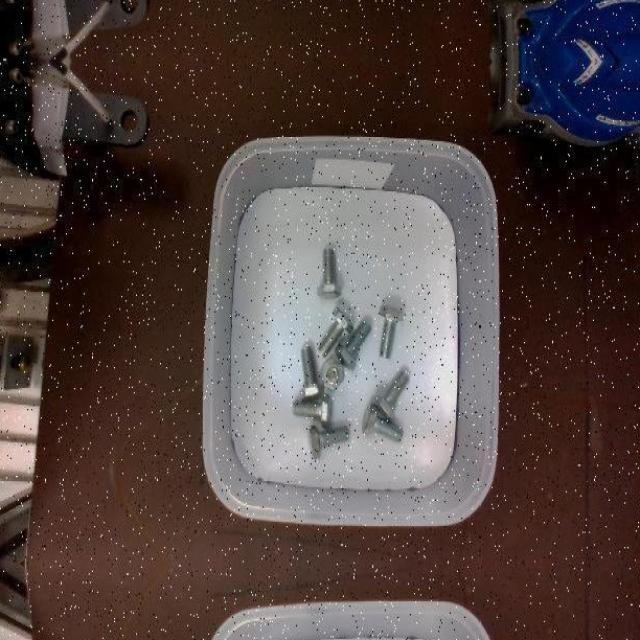screw: (336, 319, 372, 371), (373, 372, 410, 422), (317, 305, 352, 357), (360, 401, 402, 442), (378, 304, 404, 359), (298, 345, 323, 401), (293, 393, 331, 428), (316, 248, 341, 300), (310, 426, 349, 459), (320, 358, 345, 391)
